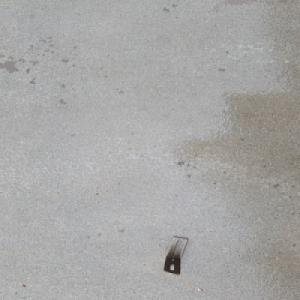MetalPart: (161, 235, 189, 275)
